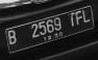2: (30, 23, 40, 39)
5: (38, 20, 47, 37)
6: (46, 18, 54, 35)
9: (53, 16, 62, 32)
B: (8, 29, 17, 45)
F: (74, 12, 82, 26)
L: (82, 10, 91, 24)
Plate: (6, 6, 95, 53)
T: (68, 12, 75, 27)
